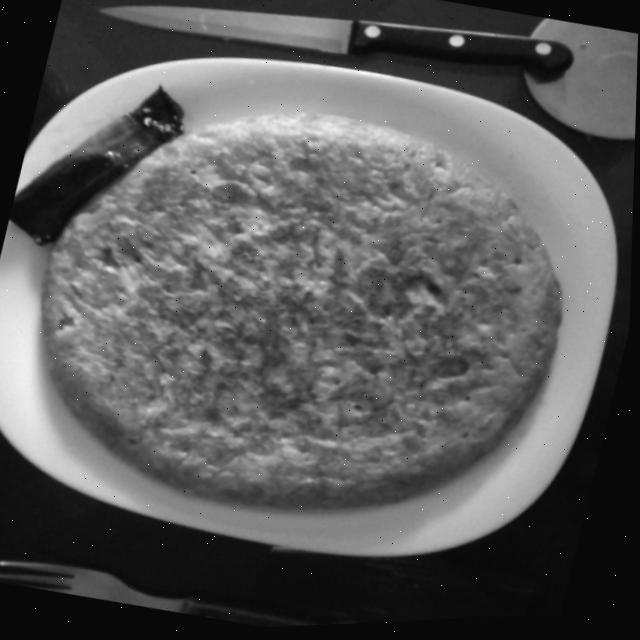面包点心: (0, 8, 624, 582)
